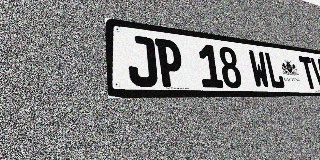1: (197, 43, 224, 88)
8: (218, 46, 243, 88)
J: (126, 35, 158, 87)
L: (264, 52, 286, 89)
P: (155, 38, 185, 87)
T: (298, 56, 318, 89)
V: (310, 57, 320, 89)
W: (248, 50, 271, 88)
